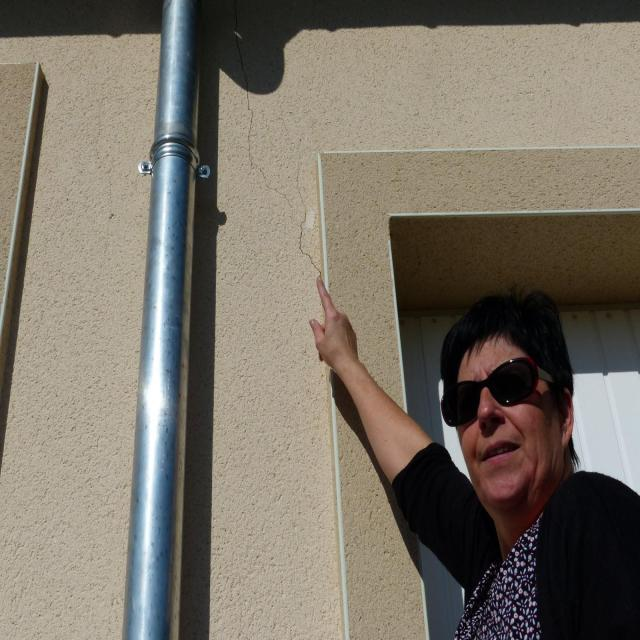crack: (230, 1, 292, 207), (295, 149, 325, 279)
